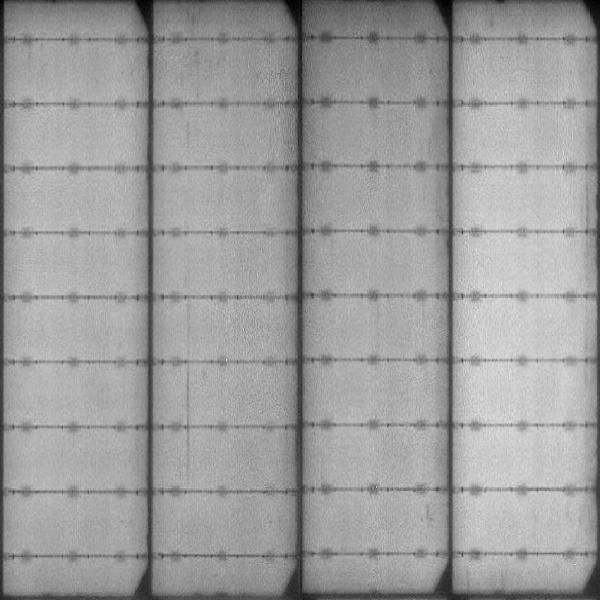scratch: (184, 302, 192, 478)
